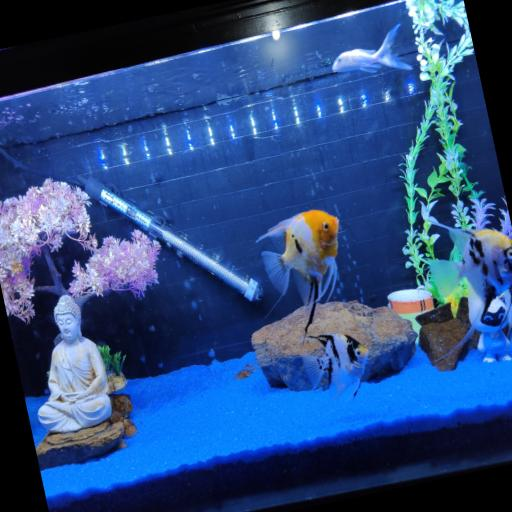Fish: (428, 218, 511, 359), (256, 210, 338, 334), (301, 334, 367, 399), (332, 24, 411, 73)
